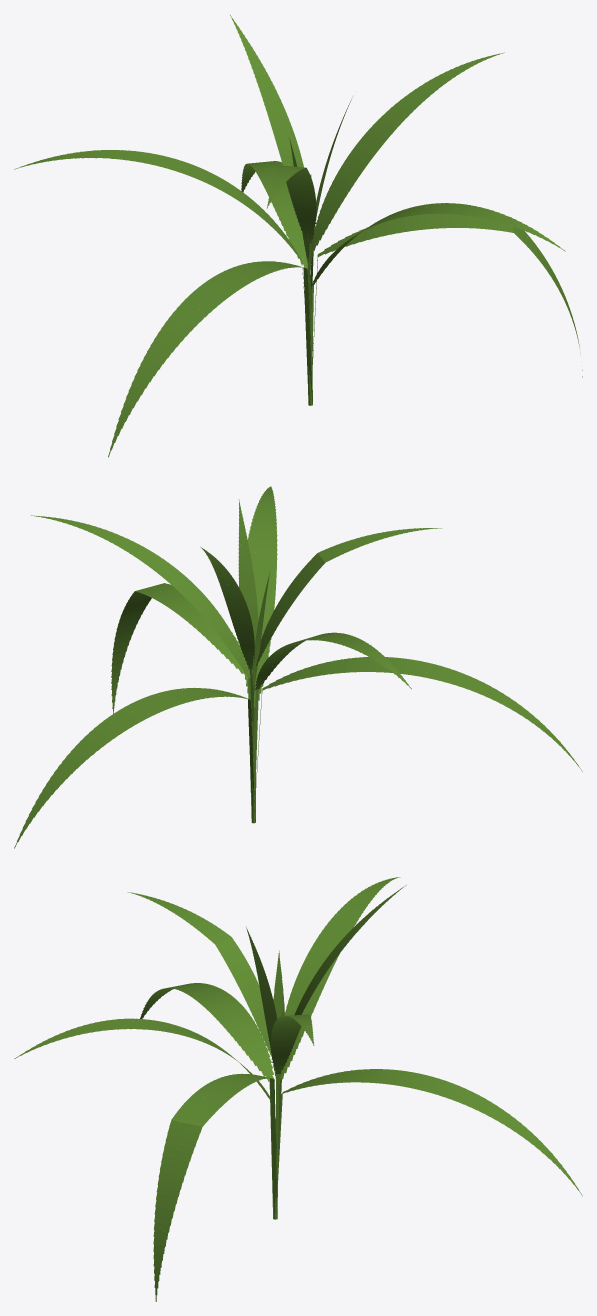
Rendered from maize_003_day_075.dae.
3 renders of one model, top to bottom at view 1: azimuth 30°, elevation 25°; view 2: azimuth 150°, elevation 25°; view 3: azimuth 270°, elevation 25°, orthographic. The views are drawn at different scales.
Parts seen in each view (by area): view 1: node; view 2: node; view 3: node.
Part boxes in pixels (x1,y1,x2,y2): node: [14, 15, 582, 457]; node: [14, 486, 582, 848]; node: [14, 877, 582, 1301].
Bounding box in the file's own units: 1.12 × 0.7544 × 1.18.
1 material, 1 textured.
